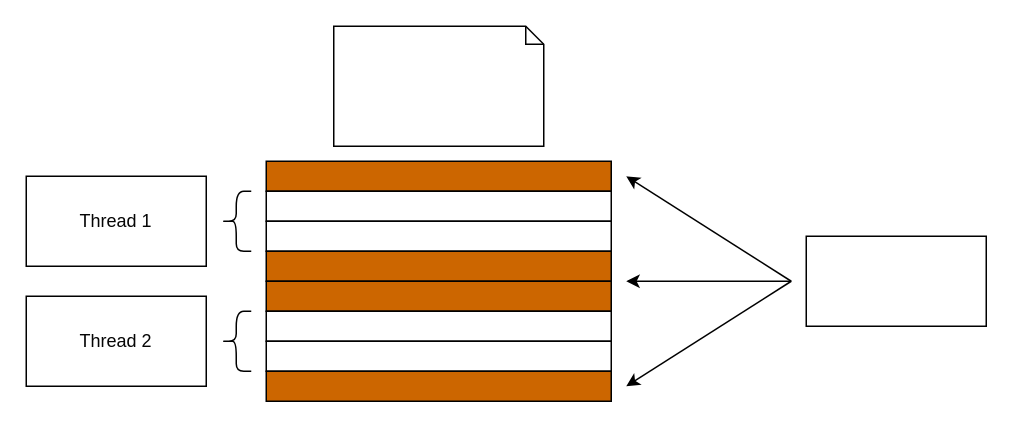
This 1013x428 diagram has some shape labels left out. The shapes that lost their labels are listed below. From the top down, each one's centre as x and y in pixels, then its label:
At [438,85]: "Order of execution 1. Inner rows 2. Border rows (sync)".
At [895,280]: "Thread 3".
